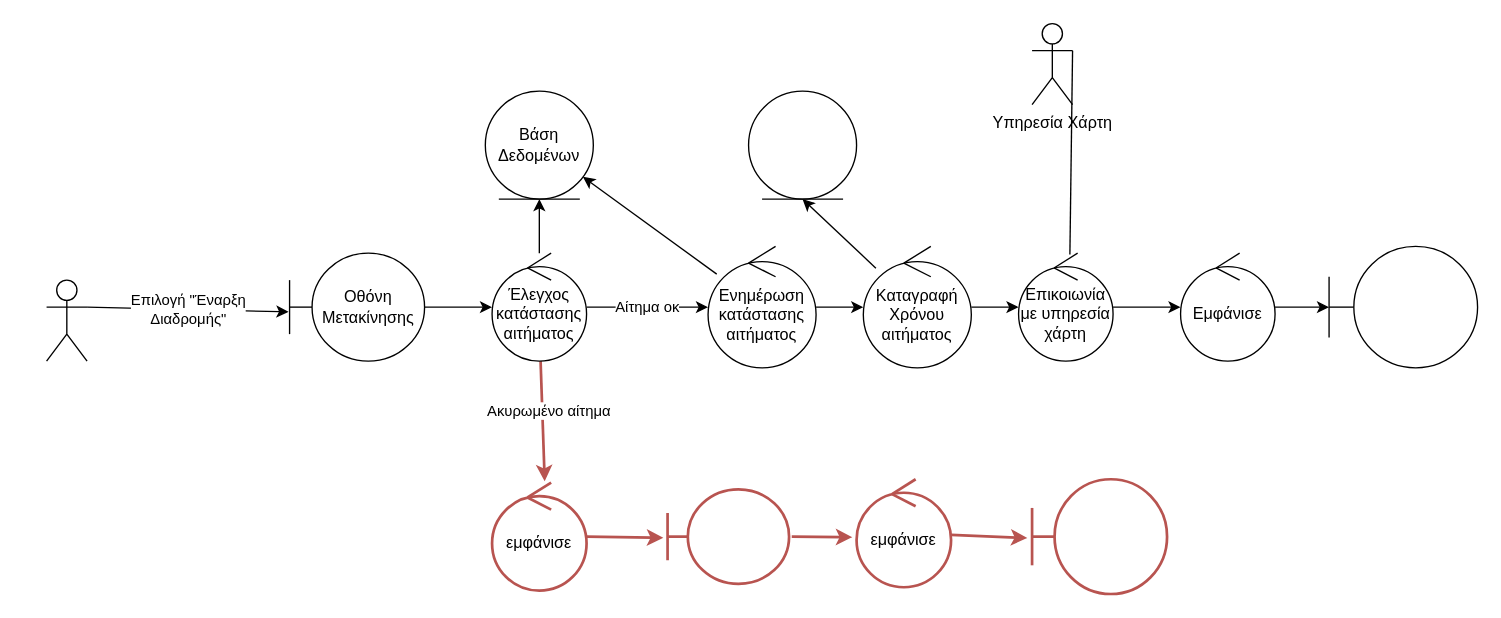
The diagram is 1501 pixels wide and 618 high, and some of its shapes have lost their labels. The box of each missing label's shape, as (x1, y1, x2, y2) in pixels:
Timer: (747, 90, 857, 199)
Αρχική οθόνη: (1030, 477, 1168, 595)
Μήνυμα σφάλματος: (666, 487, 790, 585)
Οδηγός Ταξί: (45, 279, 87, 361)
Χάρτη με τοποθεσία οδηγού και προορισμού: (1328, 245, 1478, 368)
